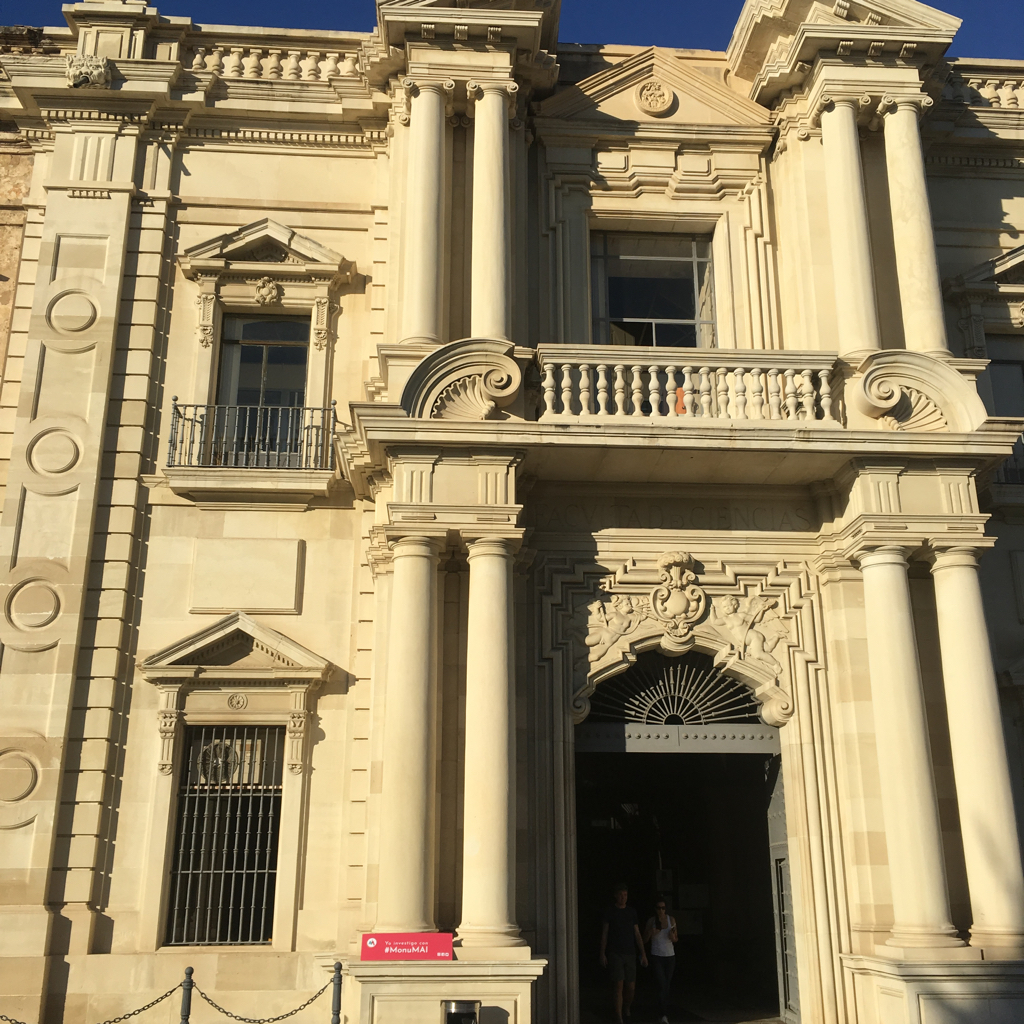fronton: (525, 41, 781, 143), (136, 608, 340, 691), (180, 220, 352, 283)
fronton-partido: (394, 329, 997, 460)
vano-adintelado: (140, 707, 323, 956), (574, 200, 738, 427), (187, 290, 340, 476)
